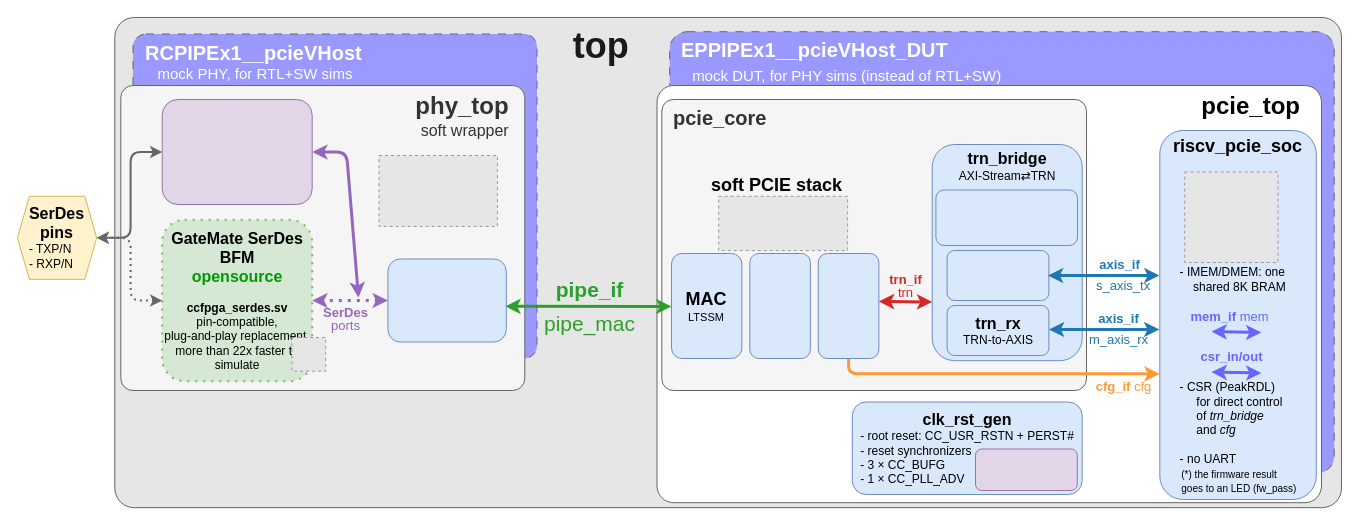
Some shapes in this 1359 by 526 pixel diagram are drawn without their labels. Grey dashed boxes stand in for pictures. Each missing label, with the centre of its shape:
"CC_PLL <GateMate HM>" goes at point (1025, 469).
"CC_SERDES <GateMate HM> proprietary complete design at RTL level. Closed-source" goes at point (236, 151).
"ccfpga_pipe_fsm thin adaptation layer by CologneChip <2.pipe/pipe_src>" goes at point (446, 300).
"DLL Data Link Layer" goes at point (779, 305).
"TL Transaction Layer" goes at point (848, 305).
"trn_tx AXIS-to-TRN" goes at point (997, 275).
"trn_tx_throttle - Tx rate control - free Tx buffers" goes at point (1006, 217).
